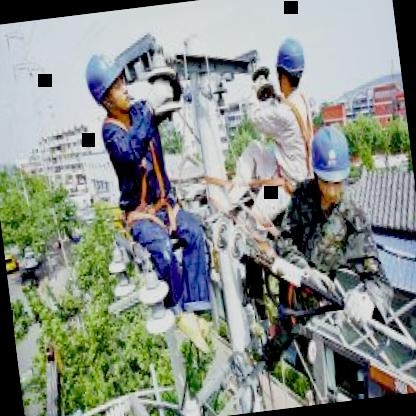helmet: (77, 41, 139, 123), (306, 115, 358, 210), (271, 31, 310, 101)
